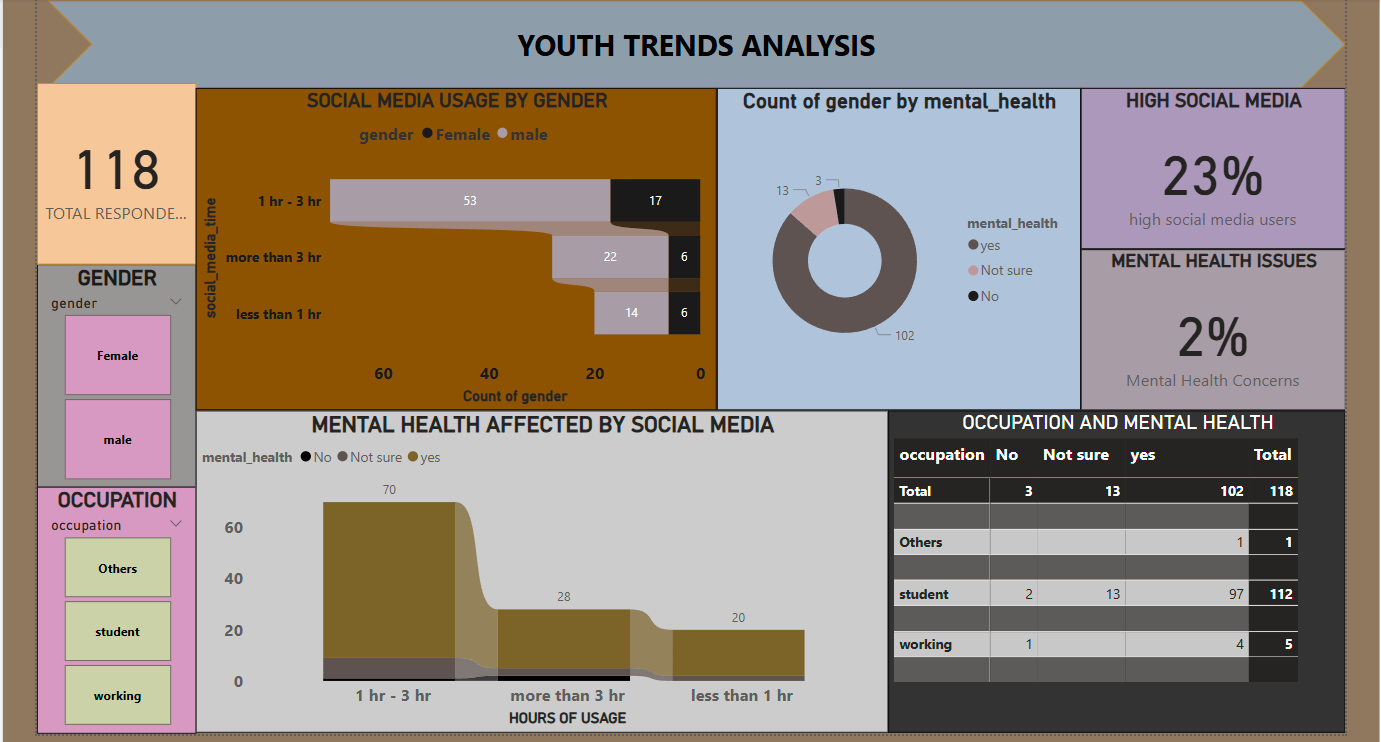

Layout of this report page (visuals, bound fields, positions):
{"tool":"powerbi","page":{"name":"Page 2","canvas":[1280,720],"ordinal":1},"visuals":[{"type":"shape","box":[9.8,2.4,1270.5,85.6],"z":0},{"type":"slicer","title":"GENDER","fields":{"Values":["major_project youth_survey.gender"]},"box":[0,260.6,155.6,218.4],"z":1000},{"type":"slicer","title":"OCCUPATION","fields":{"Values":["major_project youth_survey.occupation"]},"box":[0,478.7,155.6,241.3],"z":2000},{"type":"card","title":"HIGH SOCIAL MEDIA ","fields":{"Values":["major_project youth_survey.high social media users"]},"box":[1021.1,88,259.2,157.7],"z":3000},{"type":"card","title":"MENTAL HEALTH ISSUES","fields":{"Values":["major_project youth_survey.% Mental Health Concerns"]},"box":[1021.1,245.8,259.2,157.7],"z":4000},{"type":"donutChart","fields":{"Category":["major_project youth_survey.mental_health"],"Y":["CountNonNull(major_project youth_survey.gender)"]},"box":[665.2,88,355.8,315.5],"z":5000},{"type":"columnChart","title":"MENTAL HEALTH AFFECTED BY SOCIAL MEDIA","fields":{"Category":["major_project youth_survey.social_media_time"],"Series":["major_project youth_survey.mental_health"],"Y":["CountNonNull(major_project youth_survey.mental_health)"]},"box":[155.3,403.5,677.4,315.5],"z":6000},{"type":"card","fields":{"Values":["CountNonNull(major_project youth_survey.gender)"]},"box":[0,83.2,155.6,177.3],"z":7000},{"type":"barChart","title":"SOCIAL MEDIA USAGE BY GENDER","fields":{"Category":["major_project youth_survey.social_media_time"],"Y":["CountNonNull(major_project youth_survey.gender)"],"Series":["major_project youth_survey.gender"]},"box":[155.3,88,509.9,315.5],"z":8000},{"type":"pivotTable","title":"OCCUPATION AND MENTAL HEALTH","fields":{"Rows":["major_project youth_survey.occupation"],"Columns":["major_project youth_survey.mental_health"],"Values":["CountNonNull(major_project youth_survey.occupation)"]},"box":[832.7,403.5,447.6,315.5],"z":9000}]}

Visuals, with their boxes in screenshot pixels (x1, y1, x2, y2):
shape: <box>46,0,1335,86</box>
"GENDER" slicer: <box>36,261,194,482</box>
"OCCUPATION" slicer: <box>36,482,194,727</box>
"HIGH SOCIAL MEDIA " card: <box>1072,86,1335,246</box>
"MENTAL HEALTH ISSUES" card: <box>1072,246,1335,406</box>
donutChart - major_project youth_survey.mental_health x CountNonNull(major_project youth_survey.gender): <box>711,86,1072,406</box>
"MENTAL HEALTH AFFECTED BY SOCIAL MEDIA" columnChart: <box>194,406,881,726</box>
card - CountNonNull(major_project youth_survey.gender): <box>36,81,194,261</box>
"SOCIAL MEDIA USAGE BY GENDER" barChart: <box>194,86,711,406</box>
"OCCUPATION AND MENTAL HEALTH" pivotTable: <box>881,406,1335,726</box>
